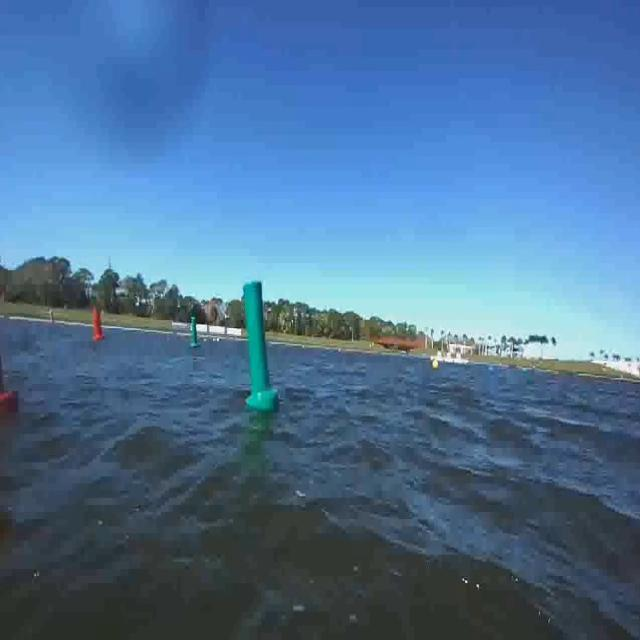blue-buoy: (488, 366, 494, 376)
green-column-buoy: (243, 276, 280, 412), (188, 315, 199, 349)
red-column-buoy: (0, 265, 18, 413), (93, 308, 106, 342)
yellow-buoy: (431, 357, 439, 371)
